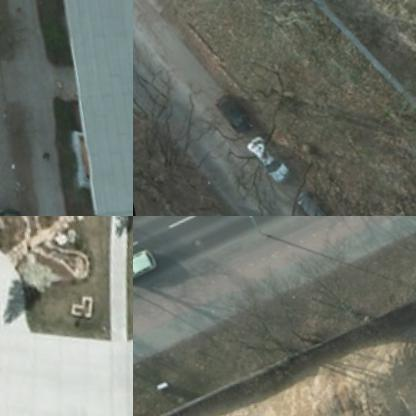car: (242, 130, 288, 188), (213, 92, 258, 143), (288, 188, 341, 215), (133, 246, 159, 291)
